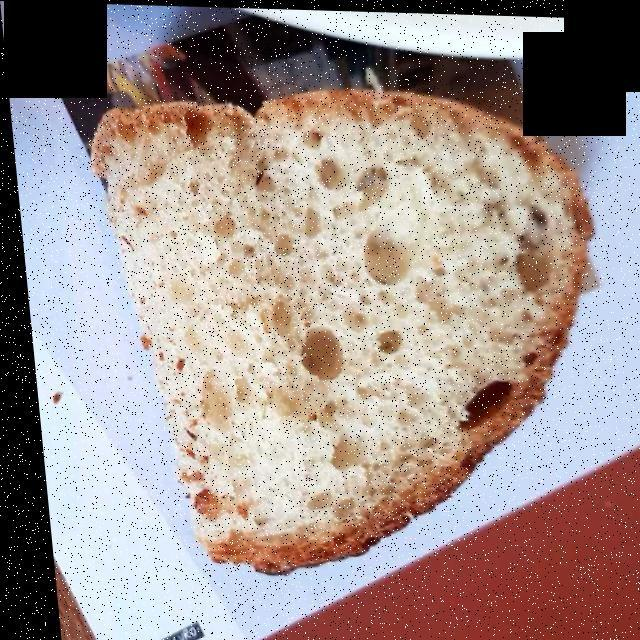bread: (98, 91, 580, 565)
